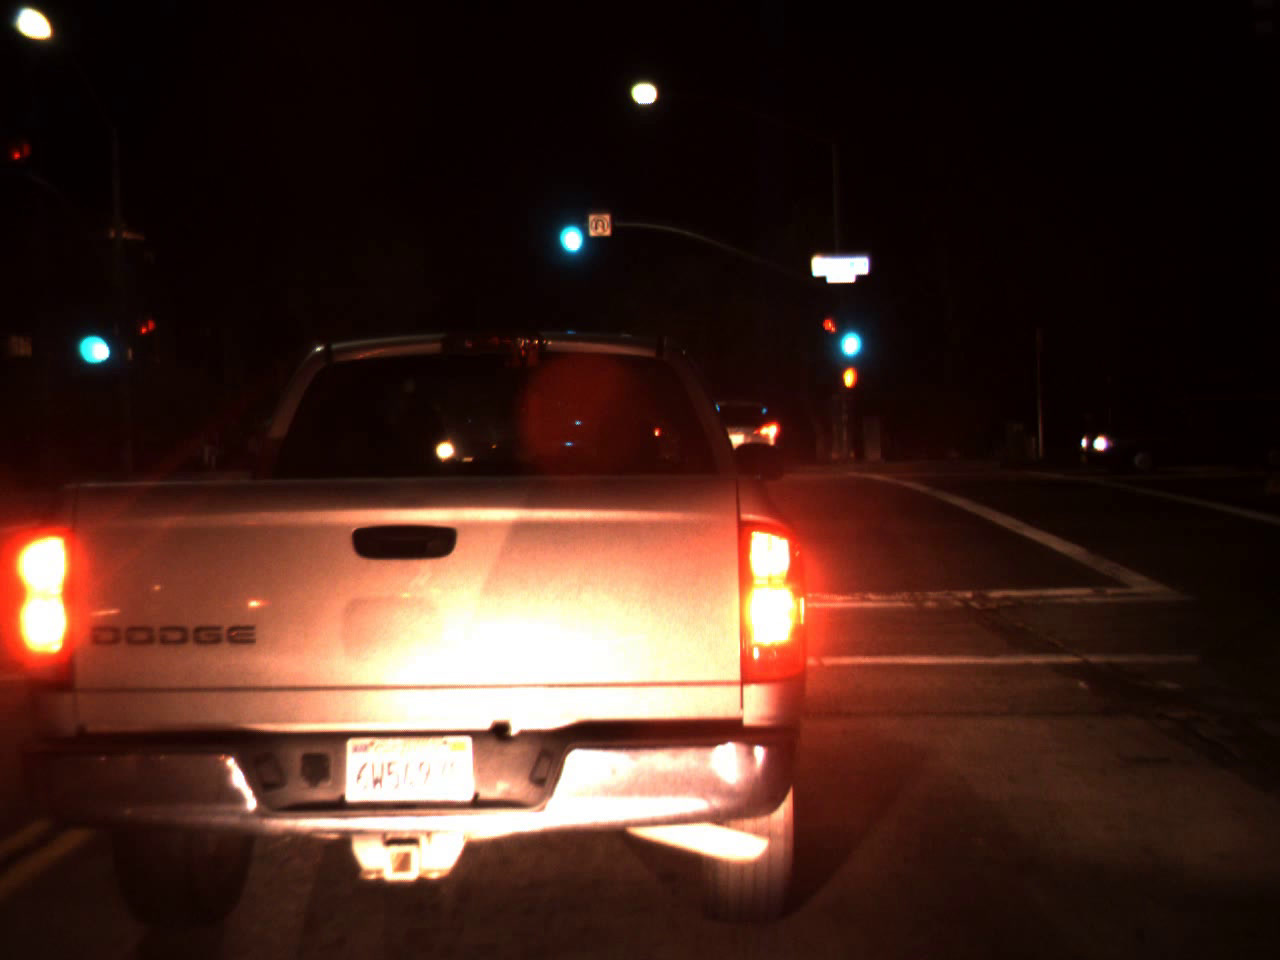go: (68, 299, 113, 374), (550, 189, 587, 264), (833, 298, 865, 367)
